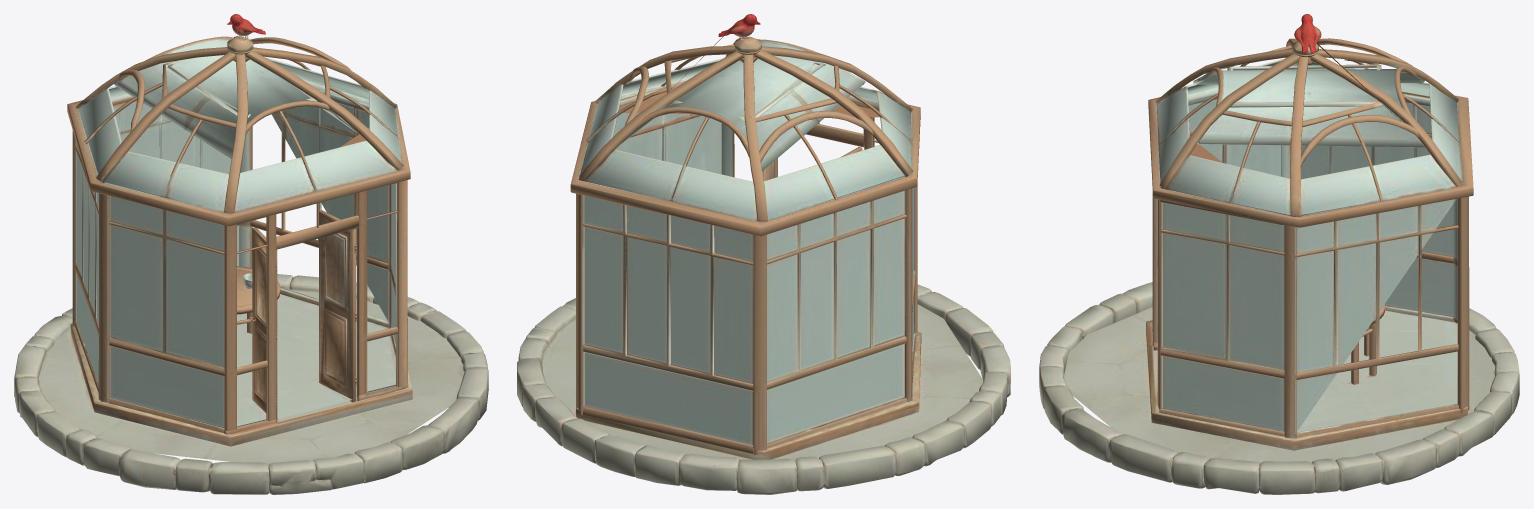
The model's file is station_4.glb.
The picture shows the model from 3 angles, left to right: view 1: azimuth 30°, elevation 25°; view 2: azimuth 150°, elevation 25°; view 3: azimuth 270°, elevation 25°; orthographic projection. The views are drawn at different scales.
Visible parts, largest first — view 1: tripo_node_71aff6ba-721a-40a4-a685-b0e6d230878d; view 2: tripo_node_71aff6ba-721a-40a4-a685-b0e6d230878d; view 3: tripo_node_71aff6ba-721a-40a4-a685-b0e6d230878d.
Part boxes in pixels (left/top/right/bottom): tripo_node_71aff6ba-721a-40a4-a685-b0e6d230878d: left=14, top=14, right=488, bottom=494; tripo_node_71aff6ba-721a-40a4-a685-b0e6d230878d: left=517, top=14, right=1010, bottom=494; tripo_node_71aff6ba-721a-40a4-a685-b0e6d230878d: left=1039, top=14, right=1519, bottom=494.
Bounding box in the file's own units: 0.9995 × 0.8716 × 0.9976.
1 material, 1 textured.
